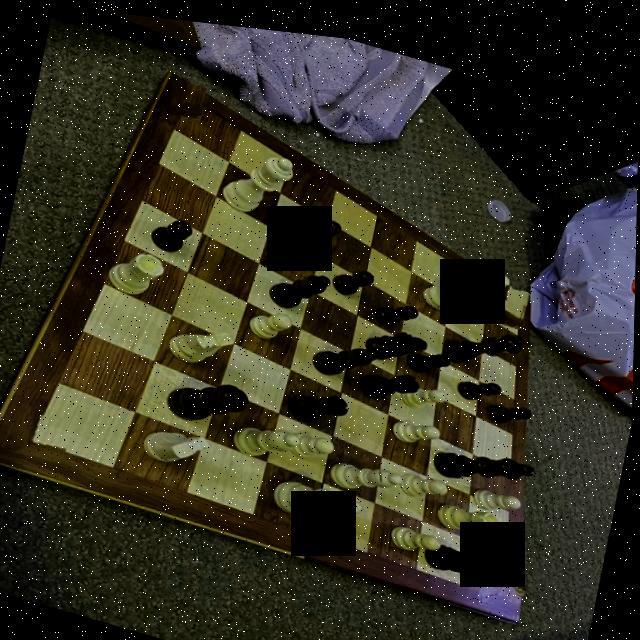chess-table-corners: (7, 404, 72, 468), (478, 556, 528, 606), (163, 70, 208, 118), (495, 270, 530, 318)
